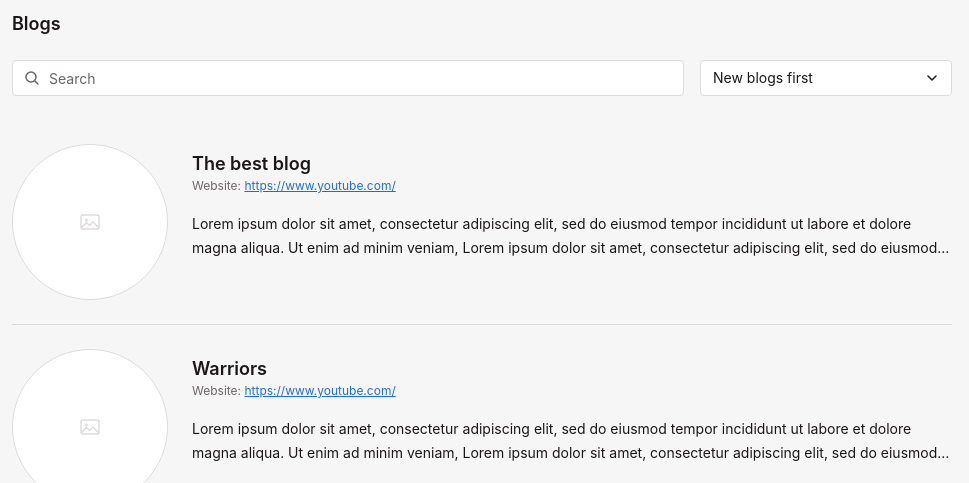
BlogsPage › reorders blogs when the sorting changes
(page scrolled)
Expected: the link "The best blog" is shown, [192, 153, 311, 174]
Select "Old blogs first" in the dropdown named "Blogs sorting" at x=826, y=78, box [700, 60, 952, 96]
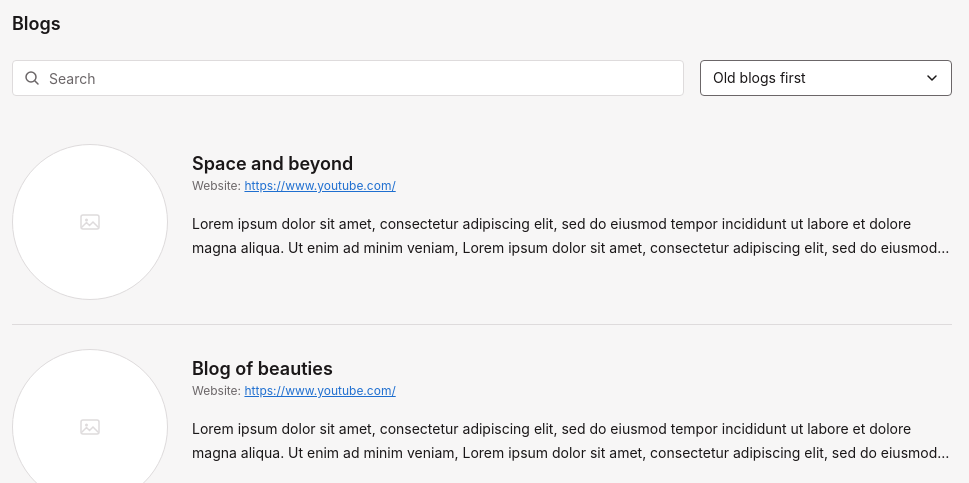
Expected: the link "Space and beyond" is shown, [192, 153, 353, 174]
